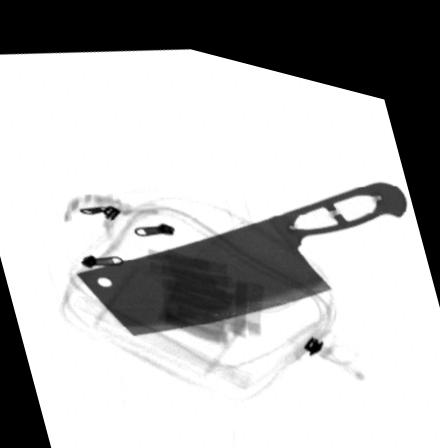Knife: (73, 159, 411, 331)
